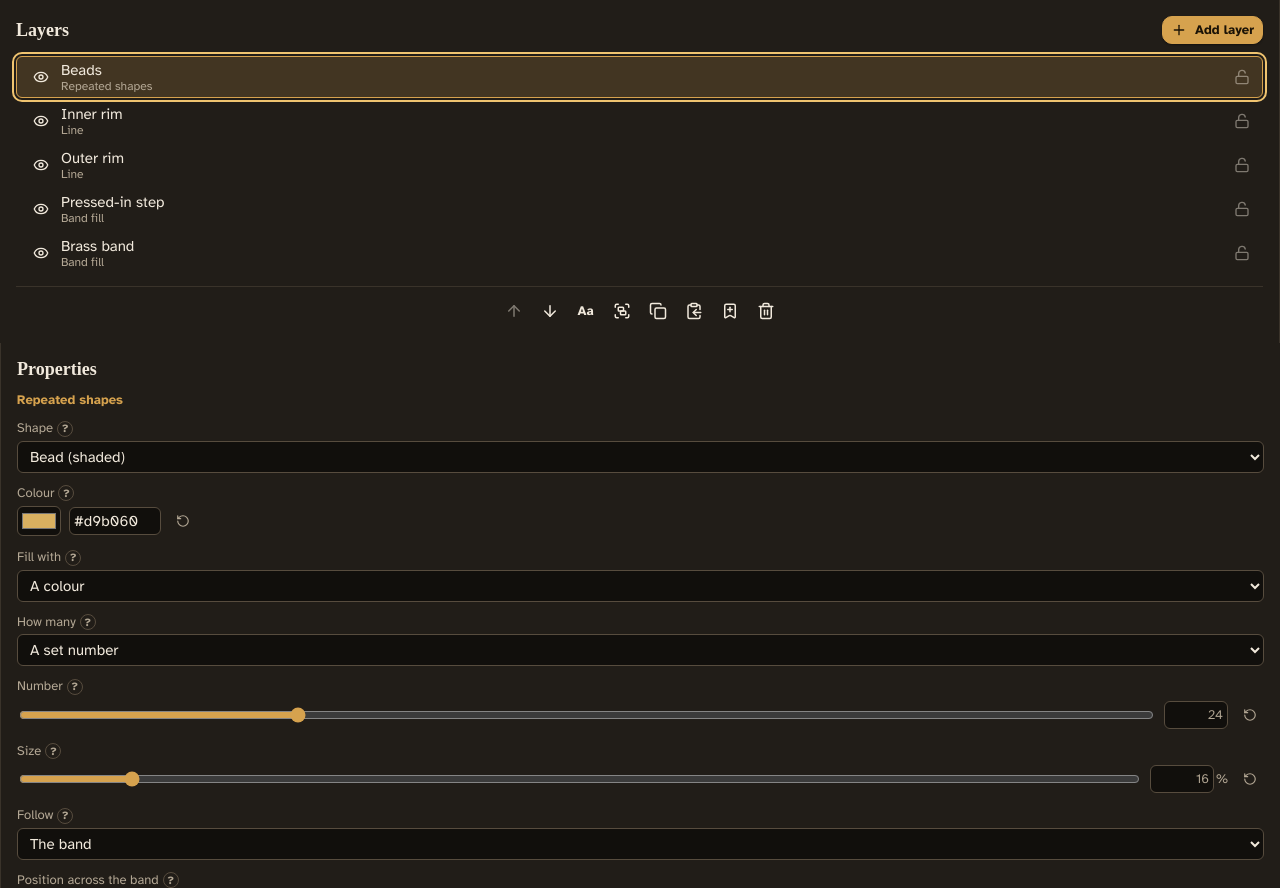
Scenario: editor panels › lists layers top first and shows the selected one’s settings
This screenshot has width=1280, height=888.
Expected: the list item "Beads Repeated shapes" is shown, [16,56,1263,98]
Click the list item "Inner rim Line" at (92, 114), box [16,100,1263,142]
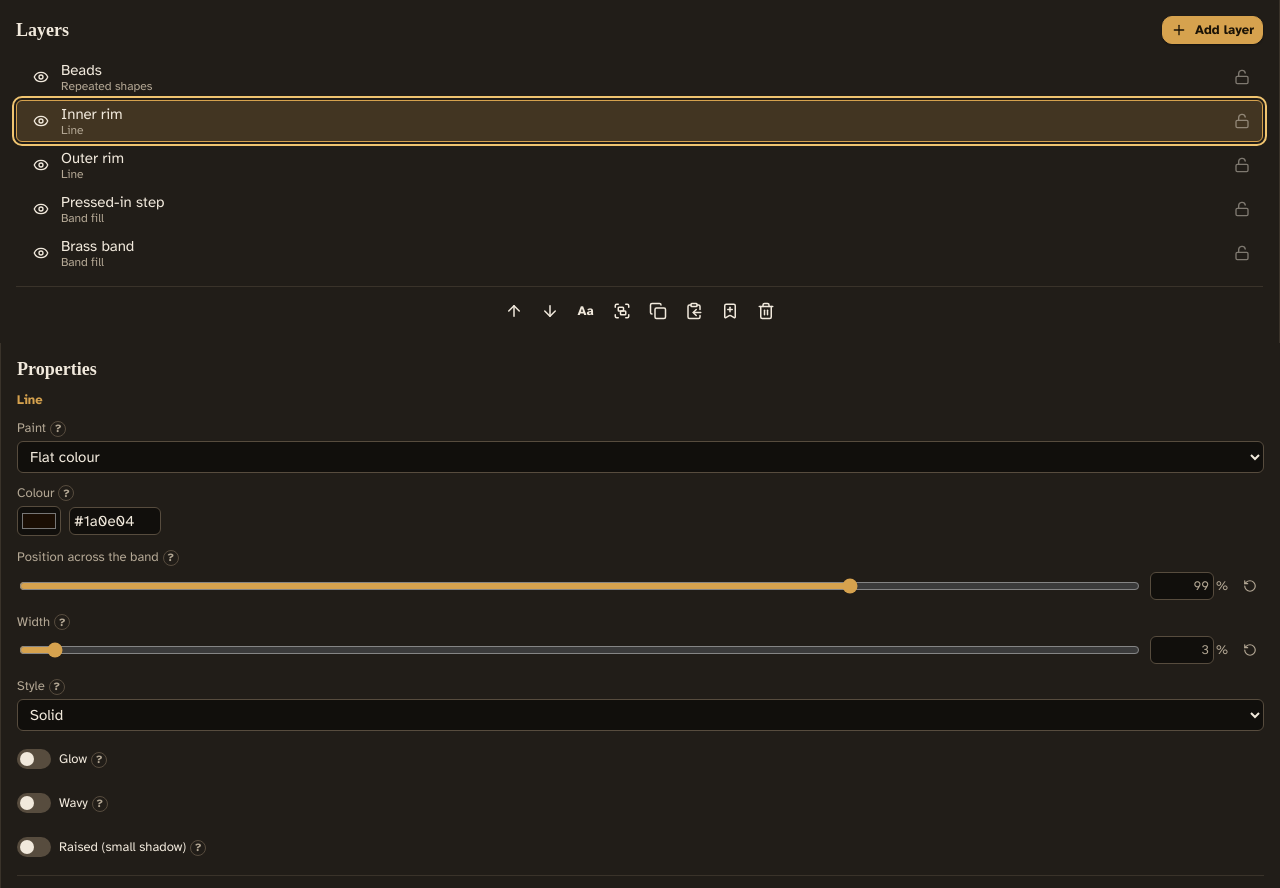
Now the text "Line" below "Properties" is shown, box [17,392,42,408]
